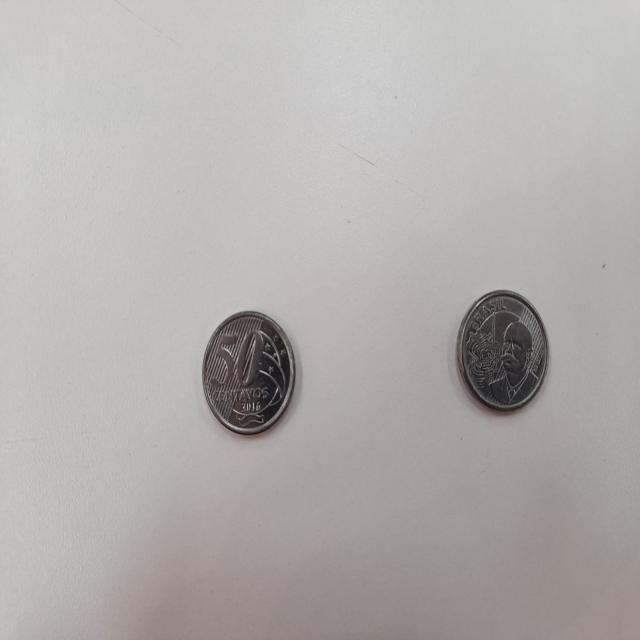50 cents: (446, 286, 554, 416), (197, 308, 300, 444)
